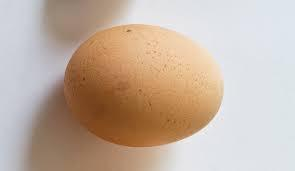egg: (63, 22, 227, 148)
